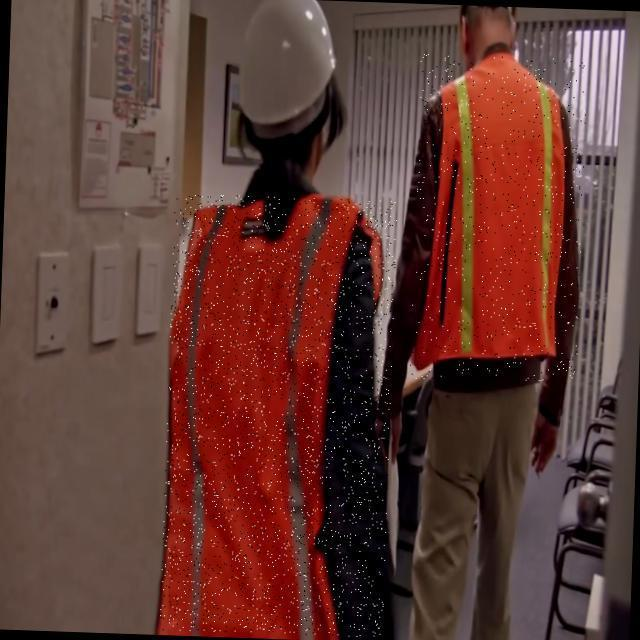helmet: (237, 0, 346, 130)
vest: (159, 193, 397, 638), (409, 54, 587, 384)
